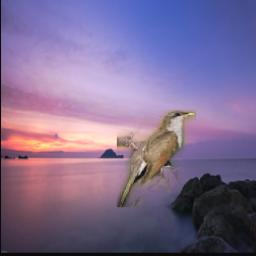Cuckoo: (117, 110, 196, 207)
